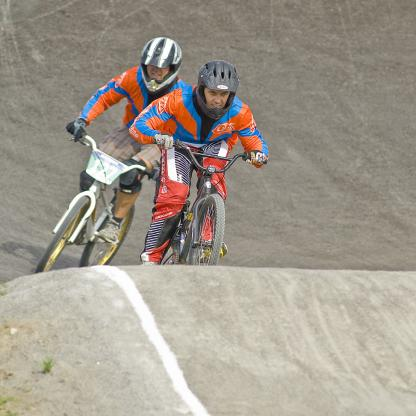Helmet: (196, 55, 246, 117), (134, 37, 182, 93)
